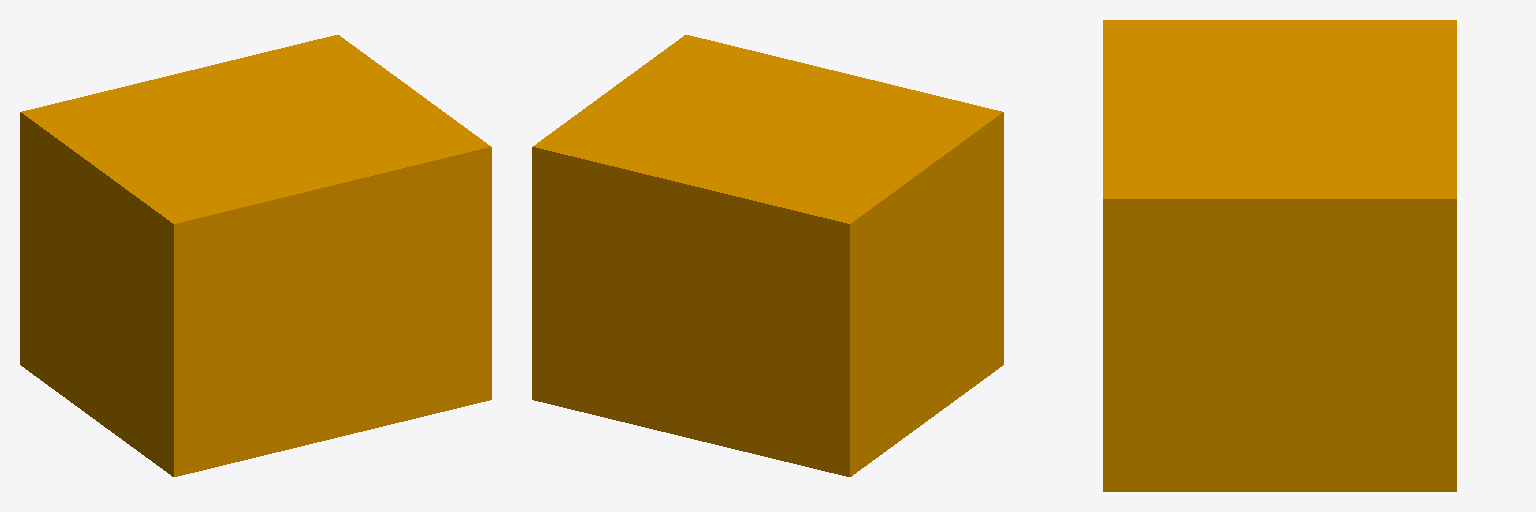
URDF robot description (object):
<?xml version="1.0"?>
<!-- Auto-generated by tools/gen_primitive_objects.py. kind=box dims=(0.079486, 0.066473, 0.060564) -->
<robot name="object">
  <link name="object">
    <visual>
      <origin xyz="0 0 0"/>
      <geometry>
        <box size="0.079486 0.066473 0.060564"/>
      </geometry>
    </visual>
    <collision>
      <origin xyz="0 0 0"/>
      <geometry>
        <box size="0.079486 0.066473 0.060564"/>
      </geometry>
    </collision>
    <inertial>
      <mass value="0.064000"/>
      <inertia ixx="0.00004313" ixy="0.0" ixz="0.0" iyy="0.00005326" iyz="0.0" izz="0.00005726"/>
    </inertial>
  </link>
</robot>

--- What the picture shows (computed from the rendered views, not written in the file) ---
The picture shows the robot from 3 angles, left to right: view 1: azimuth 30°, elevation 25°; view 2: azimuth 150°, elevation 25°; view 3: azimuth 270°, elevation 25°; orthographic projection.
Robot: object — 1 links, 0 joints (none); root link object; default pose: every joint at zero.
Links seen in each view (by area): view 1: object; view 2: object; view 3: object.
Boxes of the visible links, box(x1,y1,x2,y2) form: object: box(20, 35, 491, 476); object: box(532, 35, 1003, 476); object: box(1103, 20, 1456, 491).
Bounding box of the posed robot: 0.0795 × 0.0665 × 0.0606 m (x, y, z).
Geometry: primitives only (box / cylinder / sphere), no mesh files.
